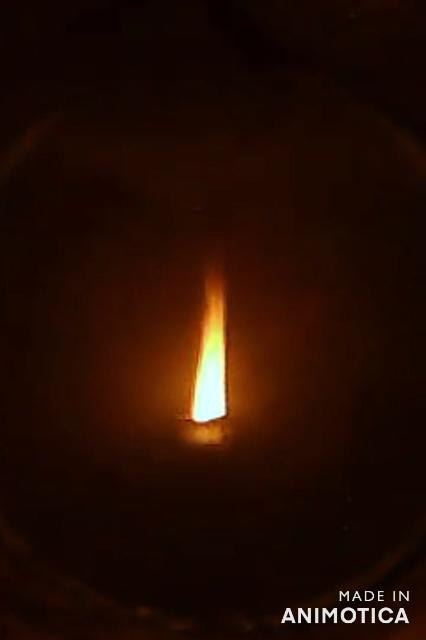burner flame: (185, 255, 233, 429)
